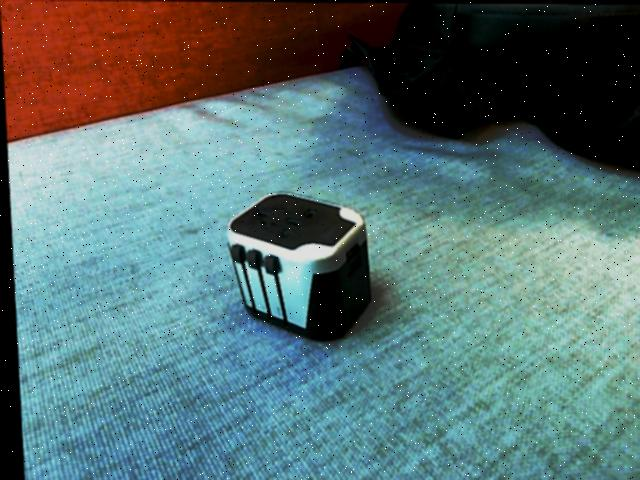adapter: (221, 191, 371, 341)
